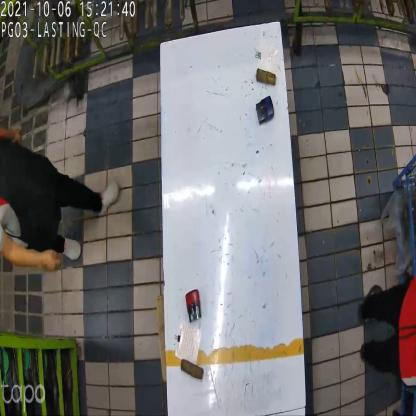stamp: (184, 291, 204, 326), (256, 95, 275, 128)
